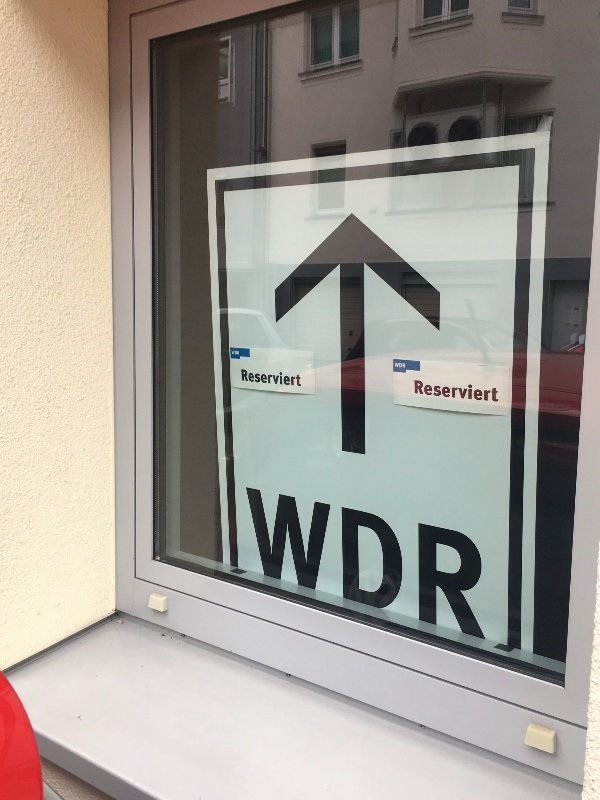text: (257, 488, 272, 644), (273, 488, 288, 644), (289, 488, 304, 644), (305, 488, 320, 644), (321, 488, 336, 644), (337, 488, 352, 644), (353, 488, 368, 644), (369, 488, 384, 644), (385, 488, 400, 644), (401, 488, 416, 644), (417, 488, 432, 644), (433, 488, 448, 644), (449, 488, 464, 644), (465, 488, 480, 644), (245, 488, 256, 644), (481, 488, 486, 644), (417, 380, 432, 403), (433, 380, 448, 403), (449, 380, 464, 403), (465, 380, 480, 403), (481, 380, 496, 403), (257, 370, 272, 387), (273, 370, 288, 387), (242, 370, 256, 387), (289, 370, 301, 387), (231, 351, 240, 356), (394, 363, 400, 369), (401, 363, 406, 369), (415, 380, 416, 403), (497, 380, 498, 403)
